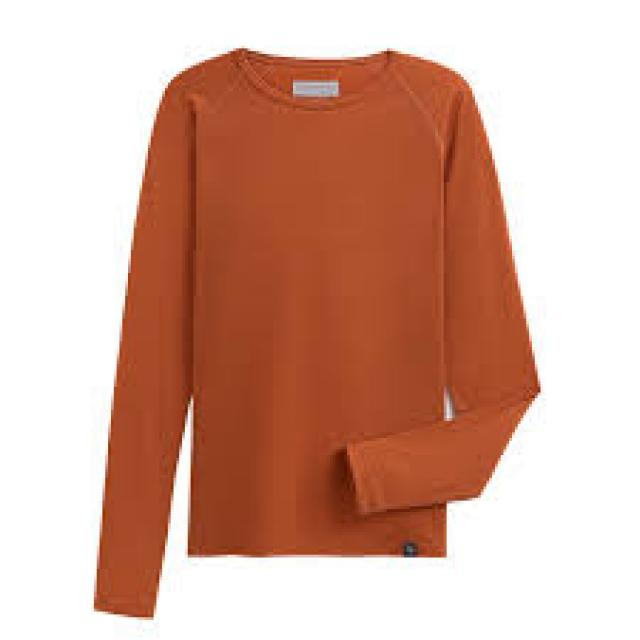plain: (34, 32, 568, 606)
